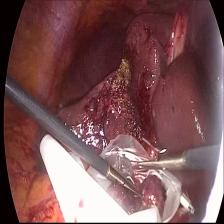Grasper: (137, 129, 187, 173), (105, 161, 146, 206)
Specimen Bag: (34, 127, 199, 223)
